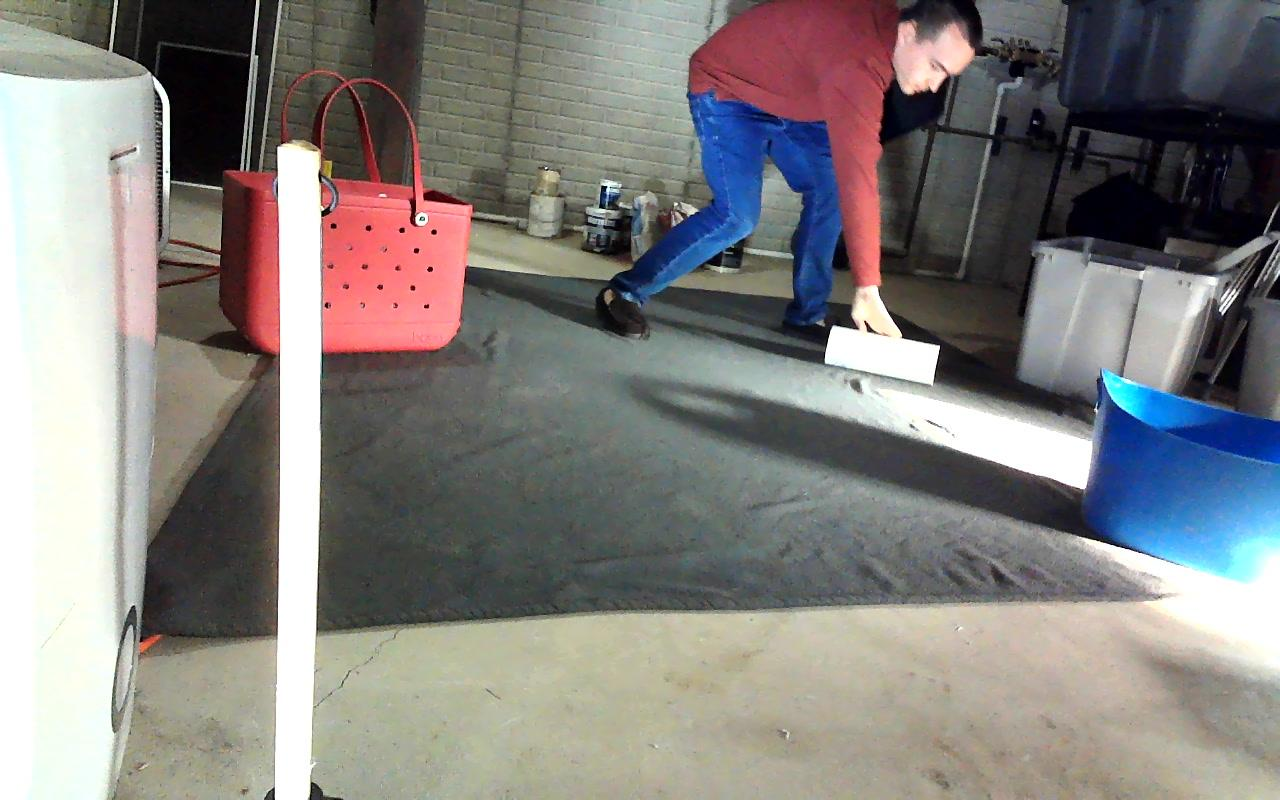coral: (825, 324, 938, 383)
